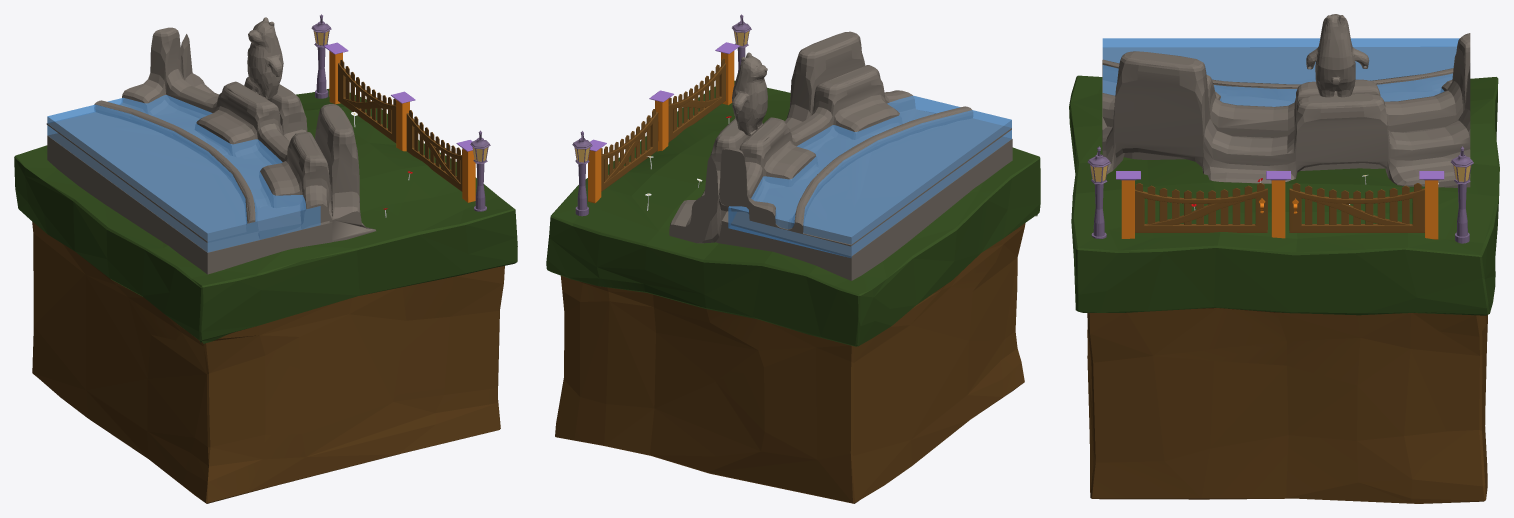
Rendered from M1.min.gltf.
3 views of the same model, side by side, from view 1: azimuth 30°, elevation 25°; view 2: azimuth 150°, elevation 25°; view 3: azimuth 270°, elevation 25° (orthographic). The views are drawn at different scales.
Visible parts, largest first — view 1: CENTERED.010; view 2: CENTERED.010; view 3: CENTERED.010.
Boxes of the visible parts, <box> form: CENTERED.010: <box>14,14,517,503</box>; CENTERED.010: <box>546,14,1040,503</box>; CENTERED.010: <box>1069,14,1499,503</box>.
Size of the model in its own units: 1.07 by 1.16 by 1.09.
